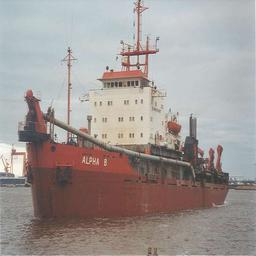Ship: (18, 32, 240, 226)
